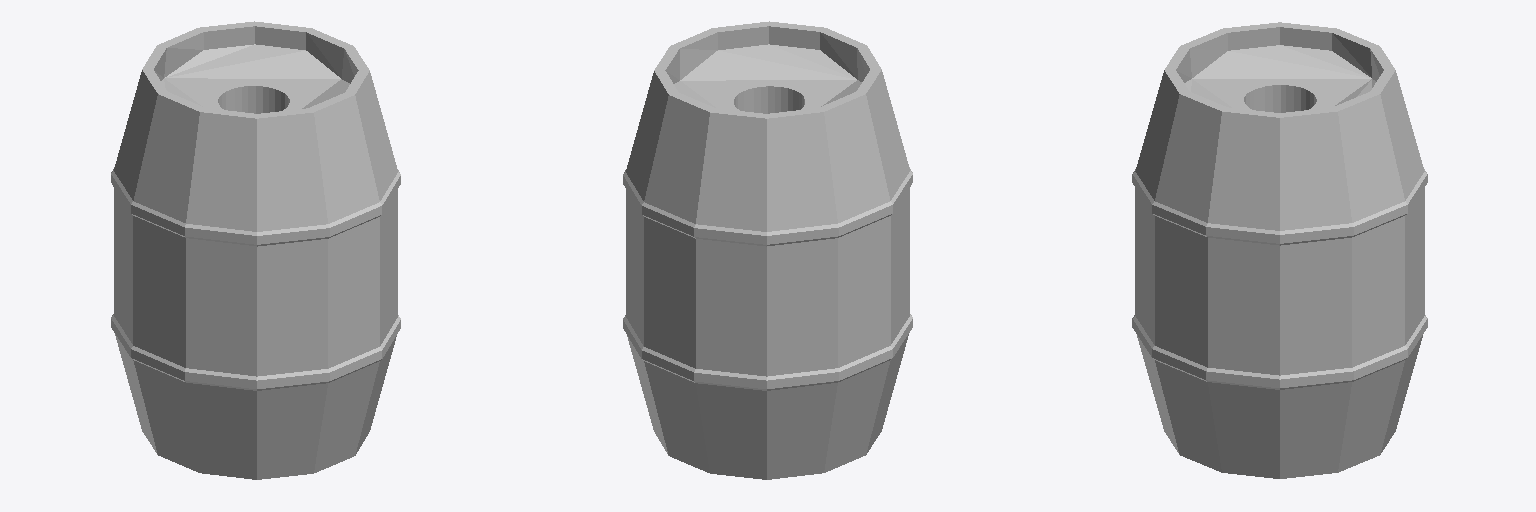
File: Barril.obj
3 renders of one model, left to right at view 1: azimuth 30°, elevation 25°; view 2: azimuth 150°, elevation 25°; view 3: azimuth 270°, elevation 25°, orthographic.
Parts seen in each view (by area): view 1: Cylinder.001; view 2: Cylinder.001; view 3: Cylinder.001.
Boxes of the visible parts, x1,y1,x2,y2 form: Cylinder.001: [111, 21, 400, 479]; Cylinder.001: [623, 21, 912, 479]; Cylinder.001: [1132, 22, 1427, 478].
Bounding box in the file's own units: 7.44 × 10.57 × 7.6.